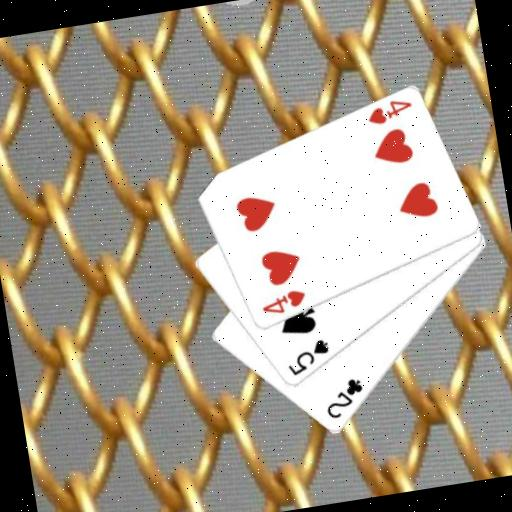2C: (318, 373, 368, 421)
4H: (362, 94, 416, 128), (256, 285, 309, 319)
5S: (281, 335, 335, 379)
